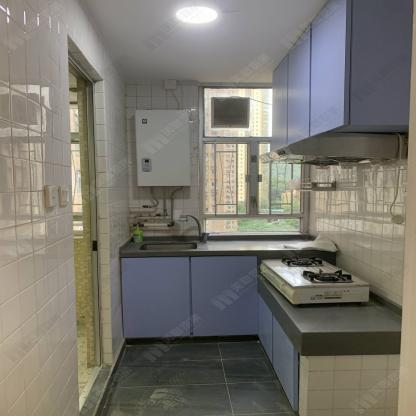Cupboard: (120, 256, 300, 410), (273, 1, 347, 148)
Exhaust Hood: (259, 132, 402, 170)
Faucet: (172, 208, 218, 244)
Sink: (145, 242, 197, 249)
Stove: (260, 255, 370, 306)
